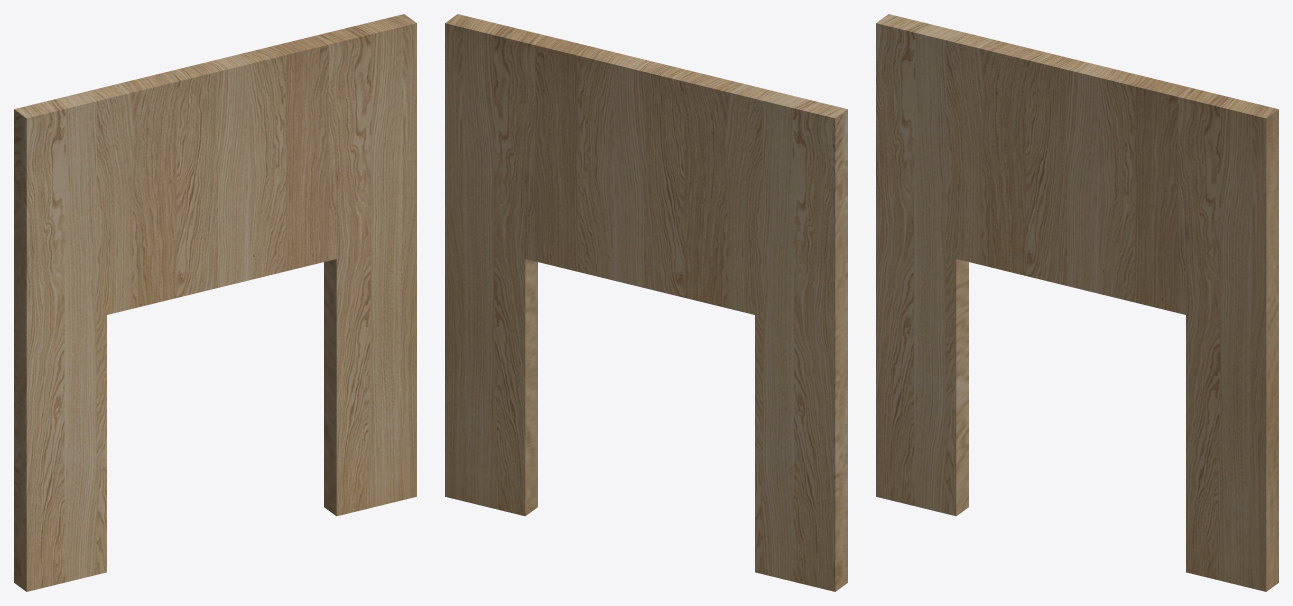
3 views of the same model, side by side, from view 1: azimuth 30°, elevation 25°; view 2: azimuth 150°, elevation 25°; view 3: azimuth 330°, elevation 25° (orthographic).
Visible parts, largest first — view 1: A_Brick; view 2: A_Brick; view 3: A_Brick.
Boxes of the visible parts, x1,y1,x2,y2 form: A_Brick: (14,14,416,591); A_Brick: (445,14,847,591); A_Brick: (876,14,1278,591).
Bounding box in the file's own units: 2.89 × 3.36 × 0.1618.
Materials: 1 (1 with a texture image).
